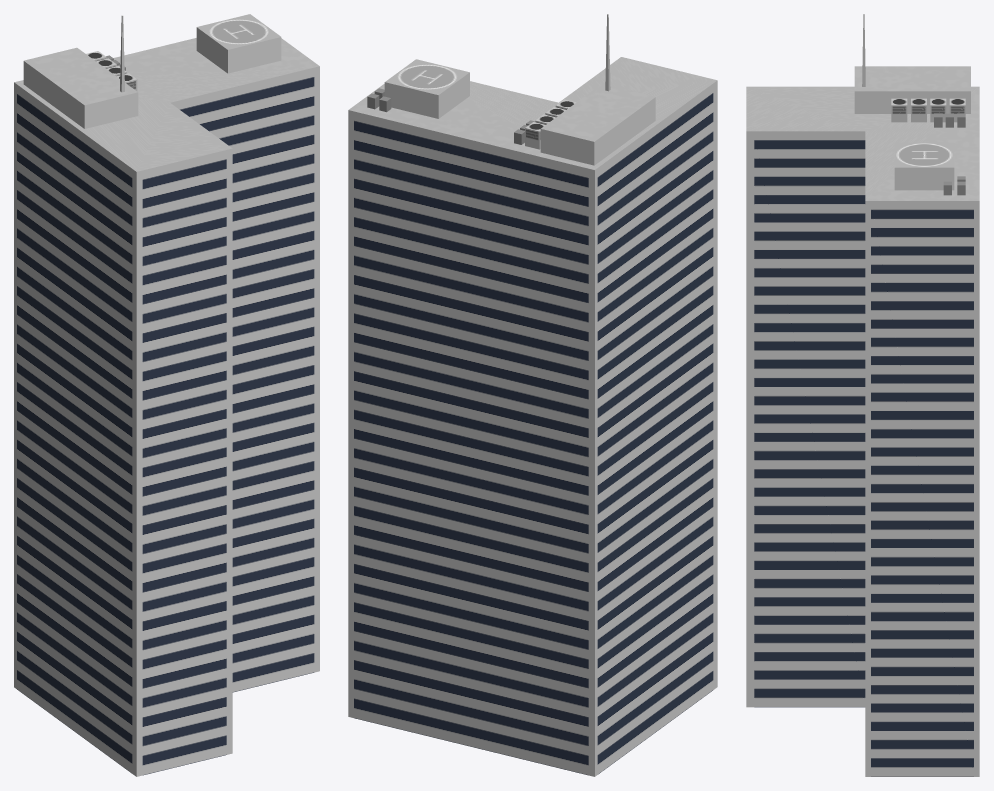
Rendered from Building_HL_W2_001.fbx.
3 renders of one model, left to right at view 1: azimuth 30°, elevation 25°; view 2: azimuth 150°, elevation 25°; view 3: azimuth 270°, elevation 25°, orthographic. The views are drawn at different scales.
Visible parts, largest first — view 1: Building_HL_W2_001; view 2: Building_HL_W2_001; view 3: Building_HL_W2_001.
Boxes of the visible parts, x1,y1,x2,y2 form: Building_HL_W2_001: (14, 14, 319, 776); Building_HL_W2_001: (348, 14, 717, 776); Building_HL_W2_001: (746, 14, 979, 776).
Bounding box in the file's own units: 59.03 × 162 × 50.93.
